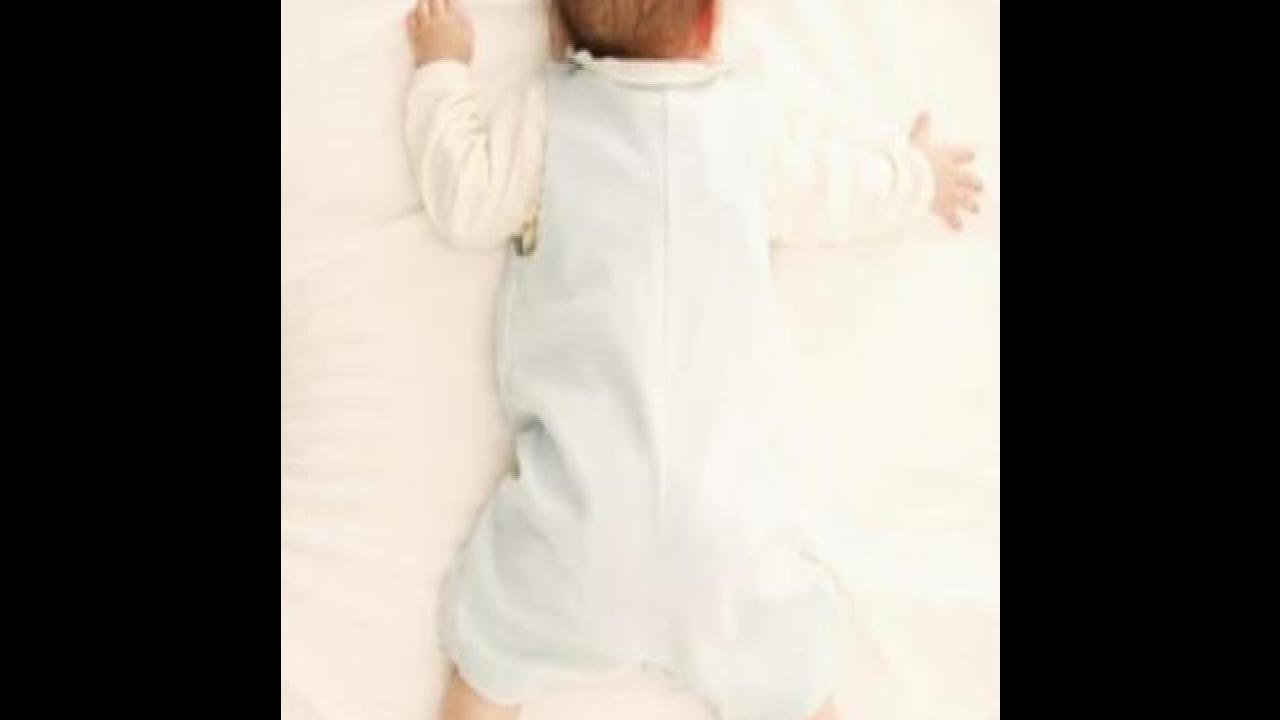hand: (900, 96, 986, 241), (401, 0, 478, 72)
